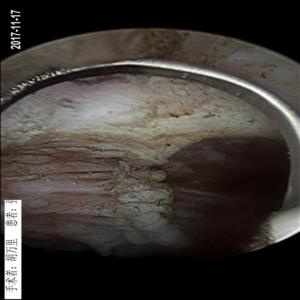film: (16, 136, 245, 237)
